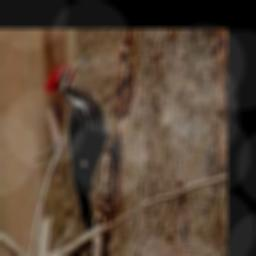Woodpecker: (43, 54, 107, 232)
